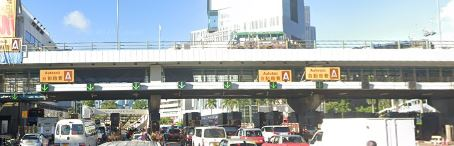Autotoll: (38, 68, 75, 83), (304, 68, 341, 79), (259, 68, 292, 80)
